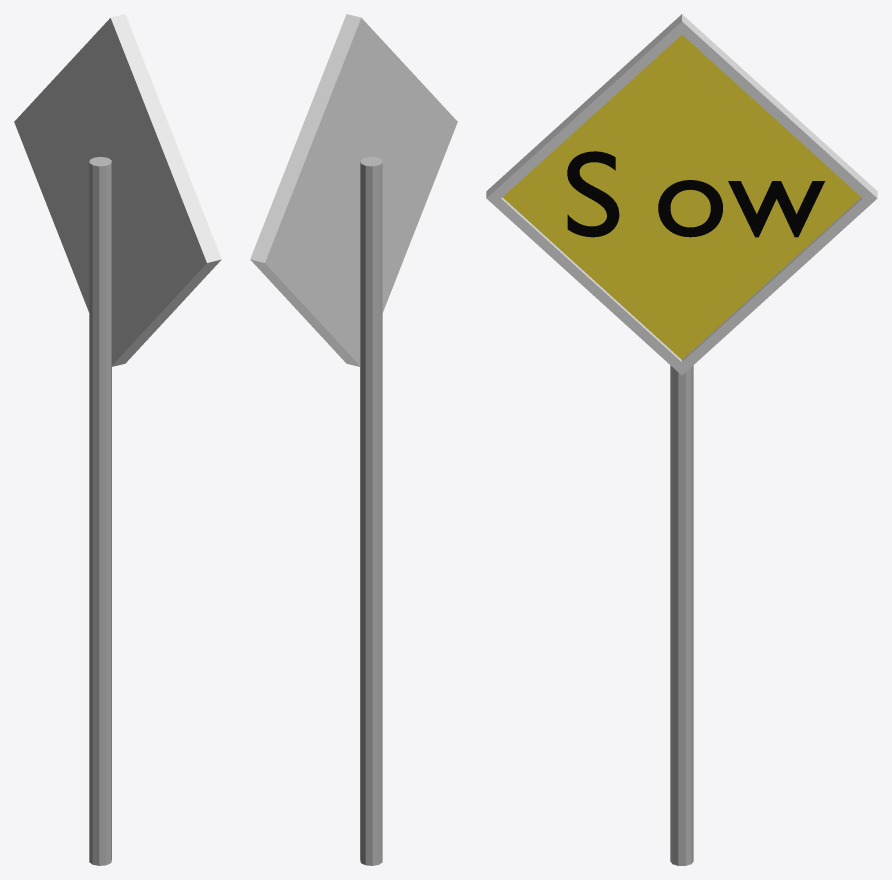
Rendered from Sign_04.fbx.
3 renders of one model, left to right at view 1: azimuth 30°, elevation 25°; view 2: azimuth 150°, elevation 25°; view 3: azimuth 270°, elevation 25°, orthographic.
Parts seen in each view (by area): view 1: Text; view 2: Text; view 3: Text.
Part boxes in pixels (left/top/right/bottom): Text: left=14, top=14, right=221, bottom=865; Text: left=250, top=14, right=457, bottom=865; Text: left=486, top=14, right=877, bottom=865.
Size of the model in its own units: 10.3 by 240 by 100.
